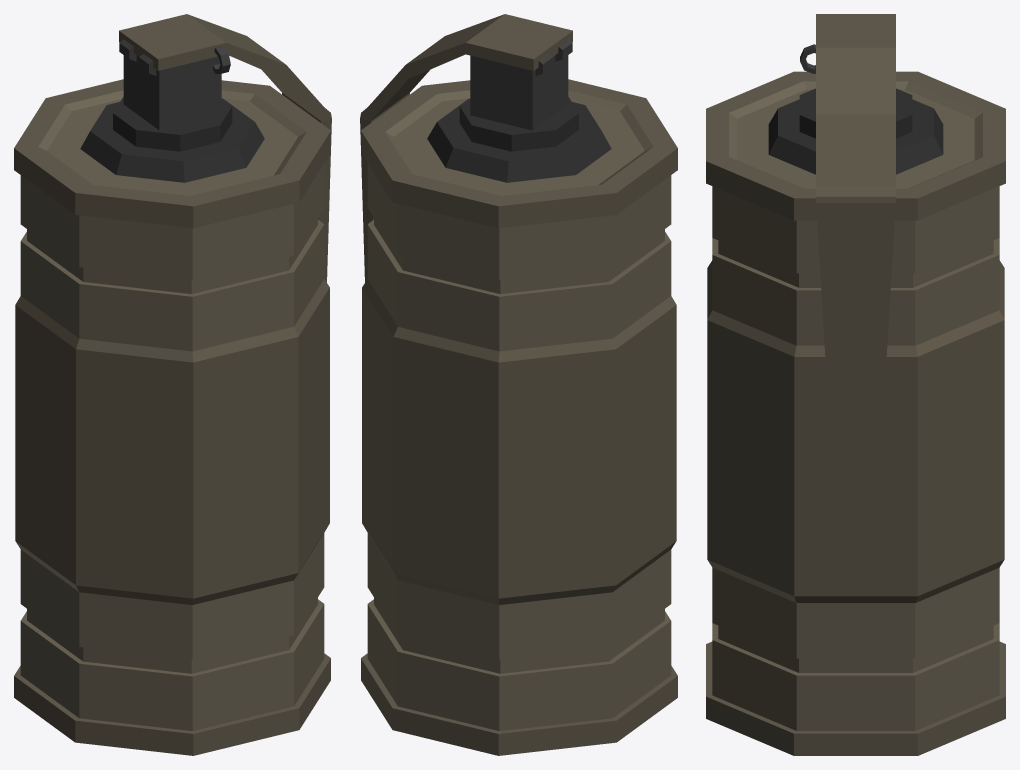
The model's file is Grenade_01.fbx.
3 views of the same model, side by side, from view 1: azimuth 30°, elevation 25°; view 2: azimuth 150°, elevation 25°; view 3: azimuth 270°, elevation 25° (orthographic).
Visible parts, largest first — view 1: Grenade_01; view 2: Grenade_01; view 3: Grenade_01.
Part boxes in pixels (x1,y1,x2,y2): Grenade_01: (14,14,331,755); Grenade_01: (360,14,677,755); Grenade_01: (706,14,1005,755).
Size of the model in its own units: 0.0636 by 0.148 by 0.0608.
